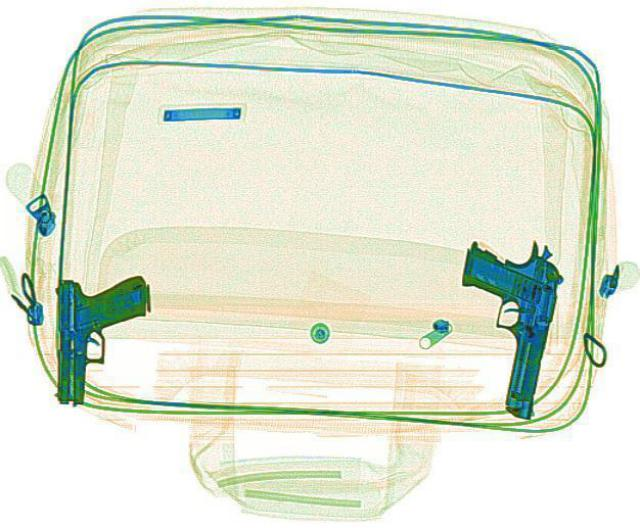Gun: (434, 230, 568, 418), (52, 272, 148, 405)
